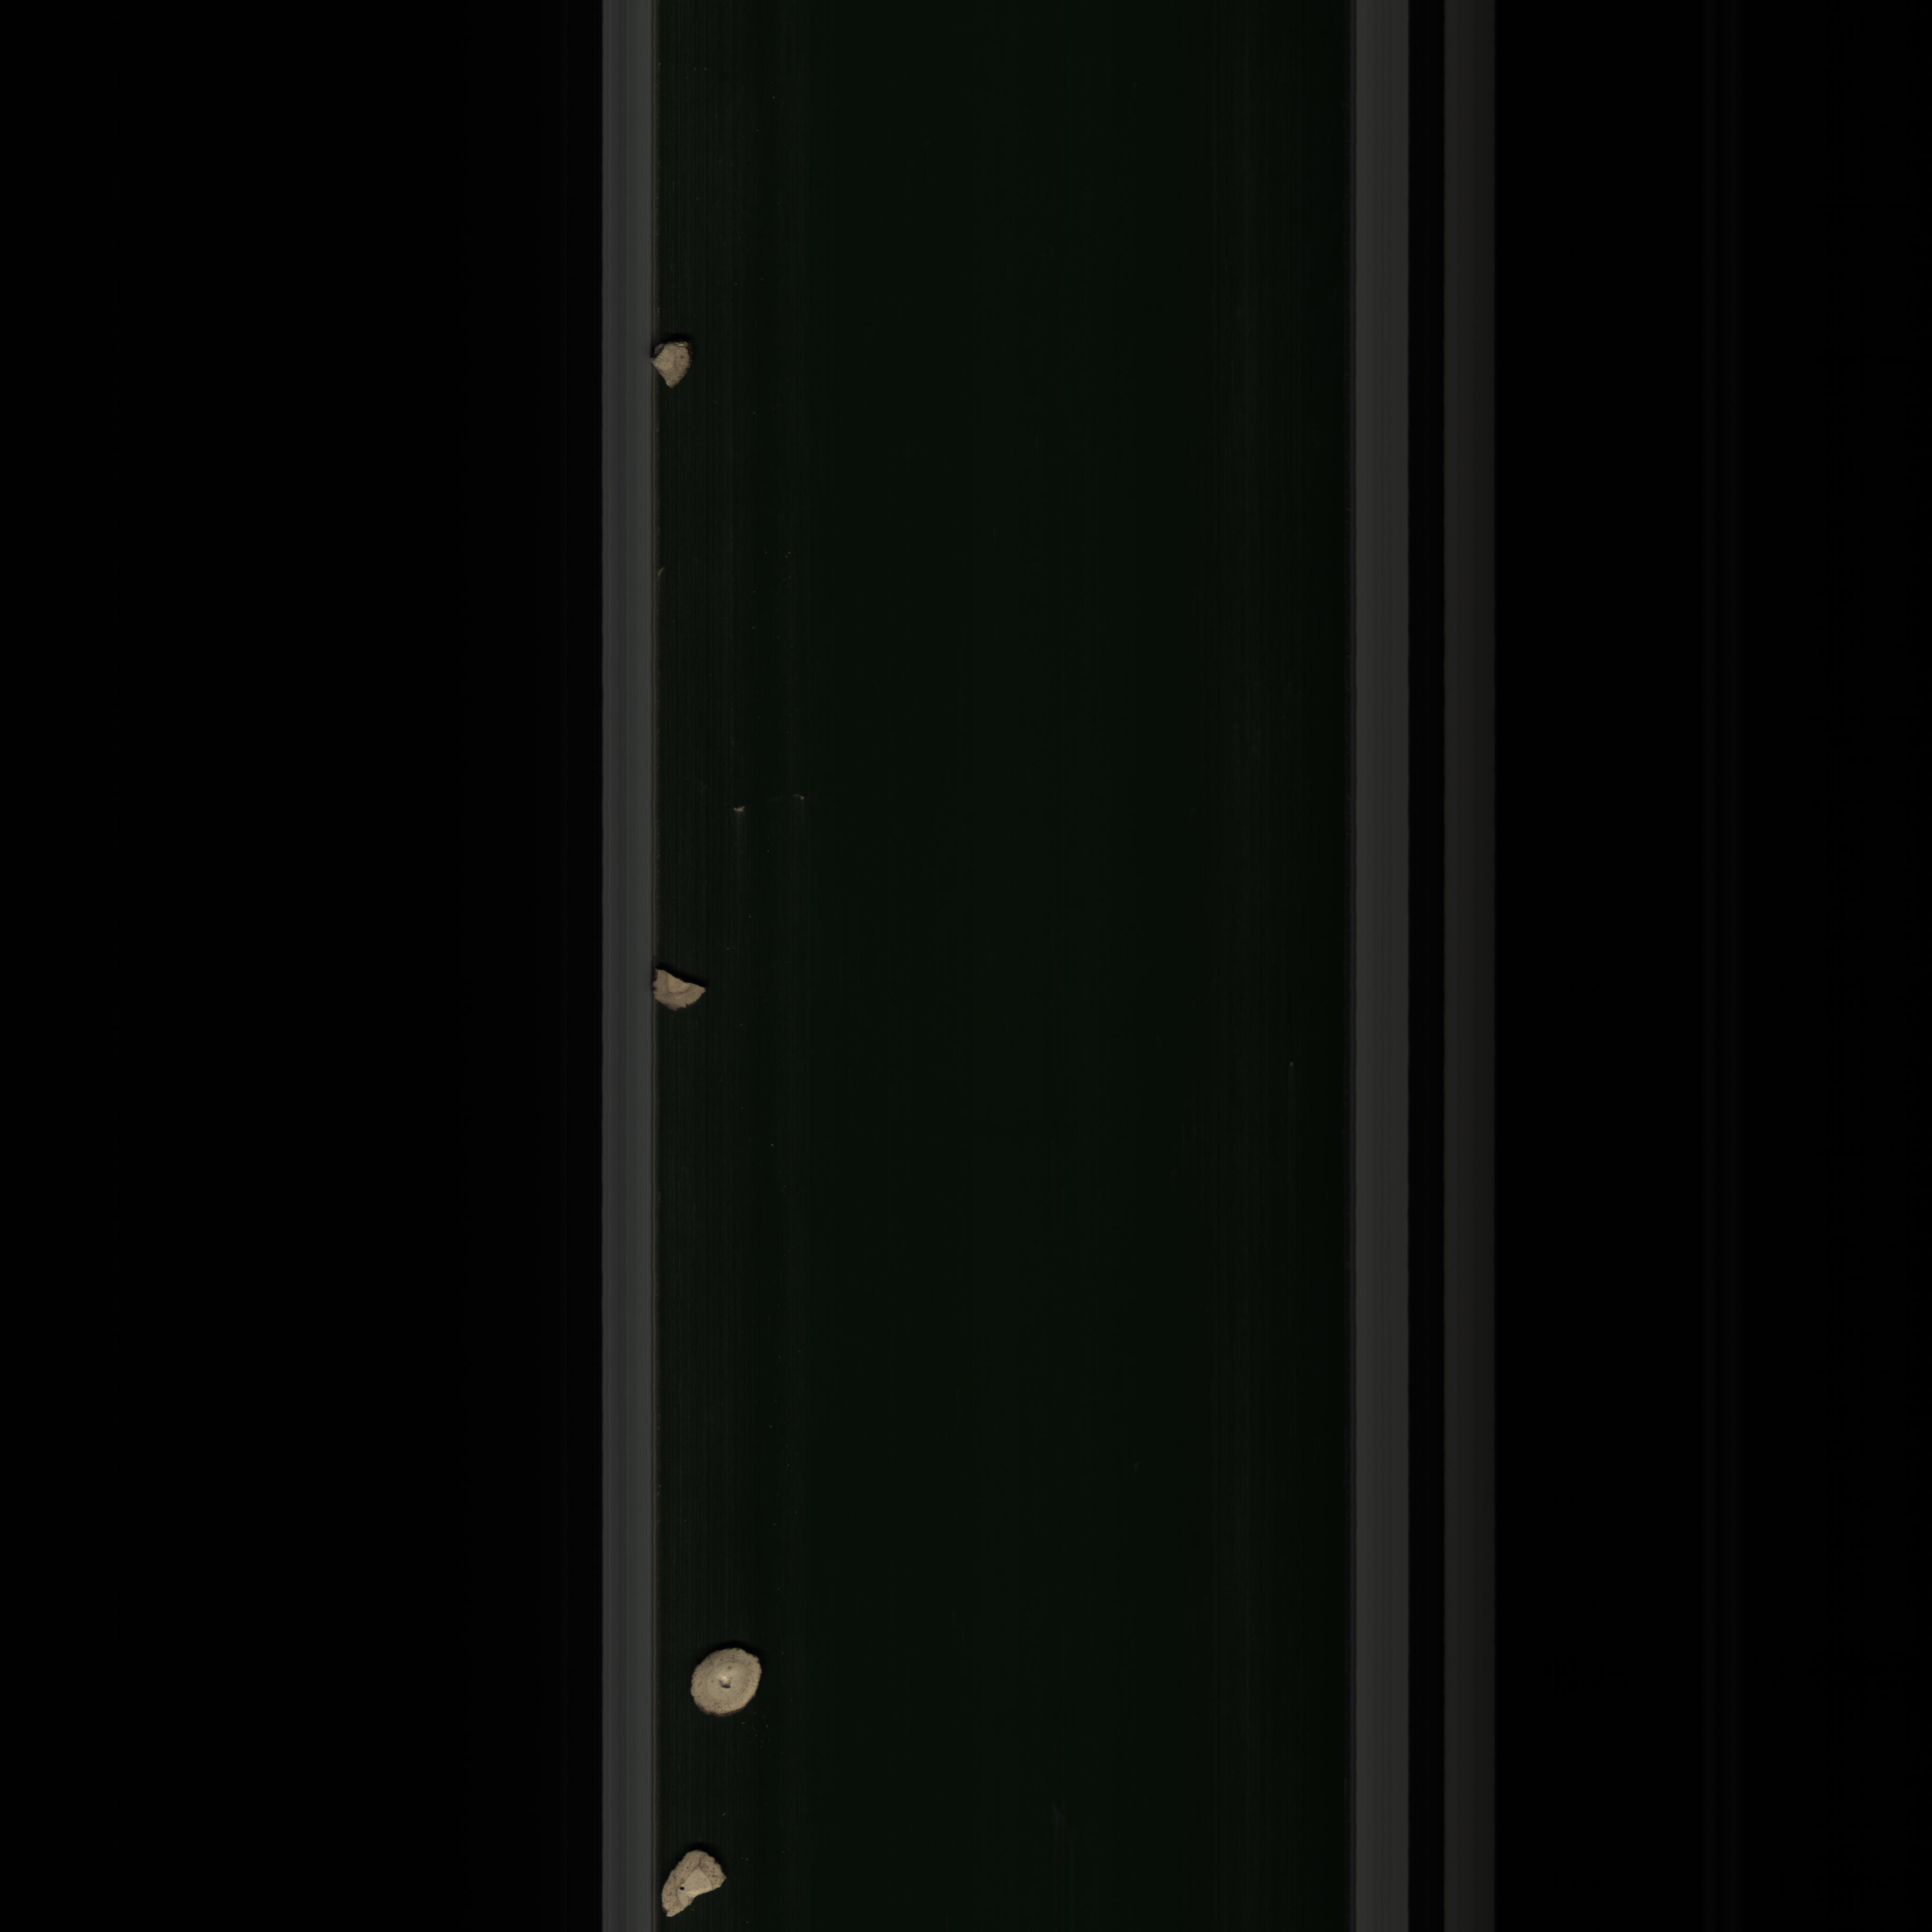debris: (663, 1836, 736, 1918), (644, 964, 718, 1028), (648, 333, 697, 393)
hole: (683, 1637, 764, 1736)
